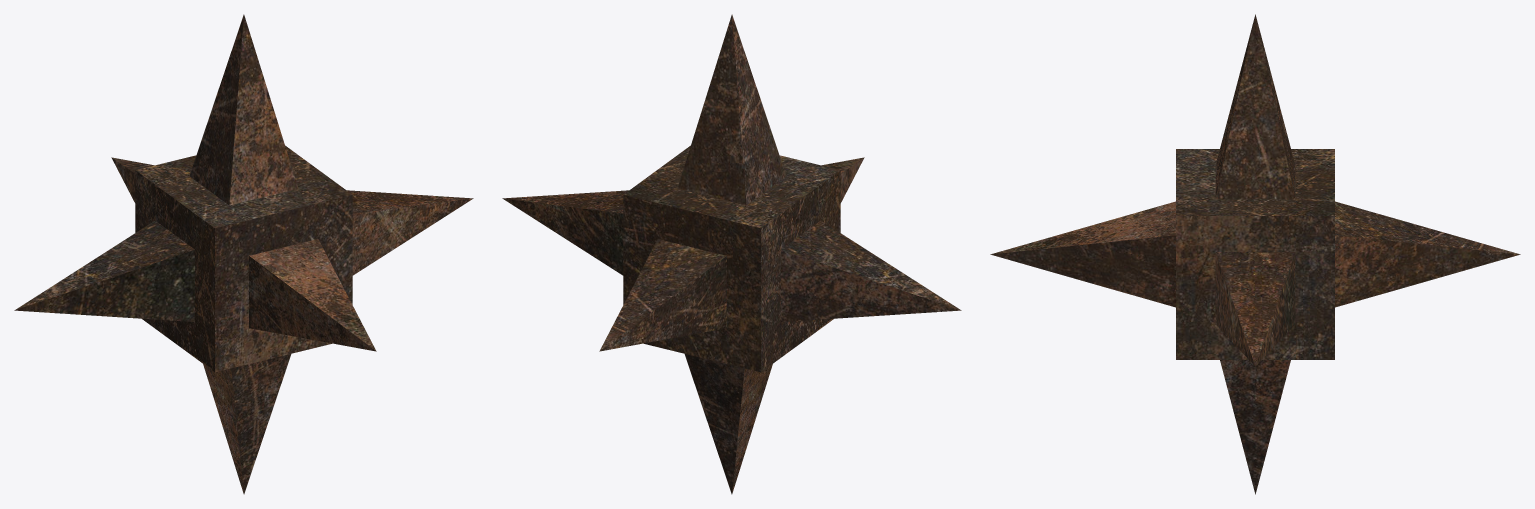
Rendered from pinchini guzinid22.fbx.
3 views of the same model, side by side, from view 1: azimuth 30°, elevation 25°; view 2: azimuth 150°, elevation 25°; view 3: azimuth 270°, elevation 25° (orthographic).
Visible parts, largest first — view 1: Cube; view 2: Cube; view 3: Cube.
Boxes of the visible parts, x1,y1,x2,y2 form: Cube: (14, 14, 473, 494); Cube: (502, 14, 961, 494); Cube: (990, 14, 1520, 494).
Size of the model in its own units: 668 by 668 by 668.
1 material, 1 textured.
